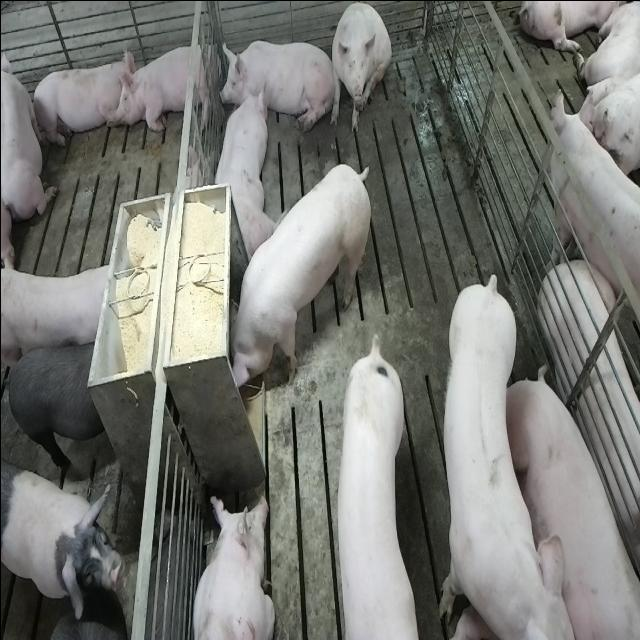Feeding: (229, 161, 375, 390)
Lateral_lying: (507, 370, 640, 640), (538, 260, 640, 596)
Sitting: (328, 1, 391, 136)
Standing: (436, 268, 570, 637), (331, 326, 416, 636), (549, 92, 640, 336), (2, 466, 124, 618), (3, 334, 109, 476), (3, 256, 119, 366), (37, 611, 133, 640)
Sternal_lying: (190, 490, 274, 640), (209, 85, 270, 263), (225, 32, 332, 130), (2, 35, 56, 224), (29, 51, 130, 149), (118, 36, 214, 134)
